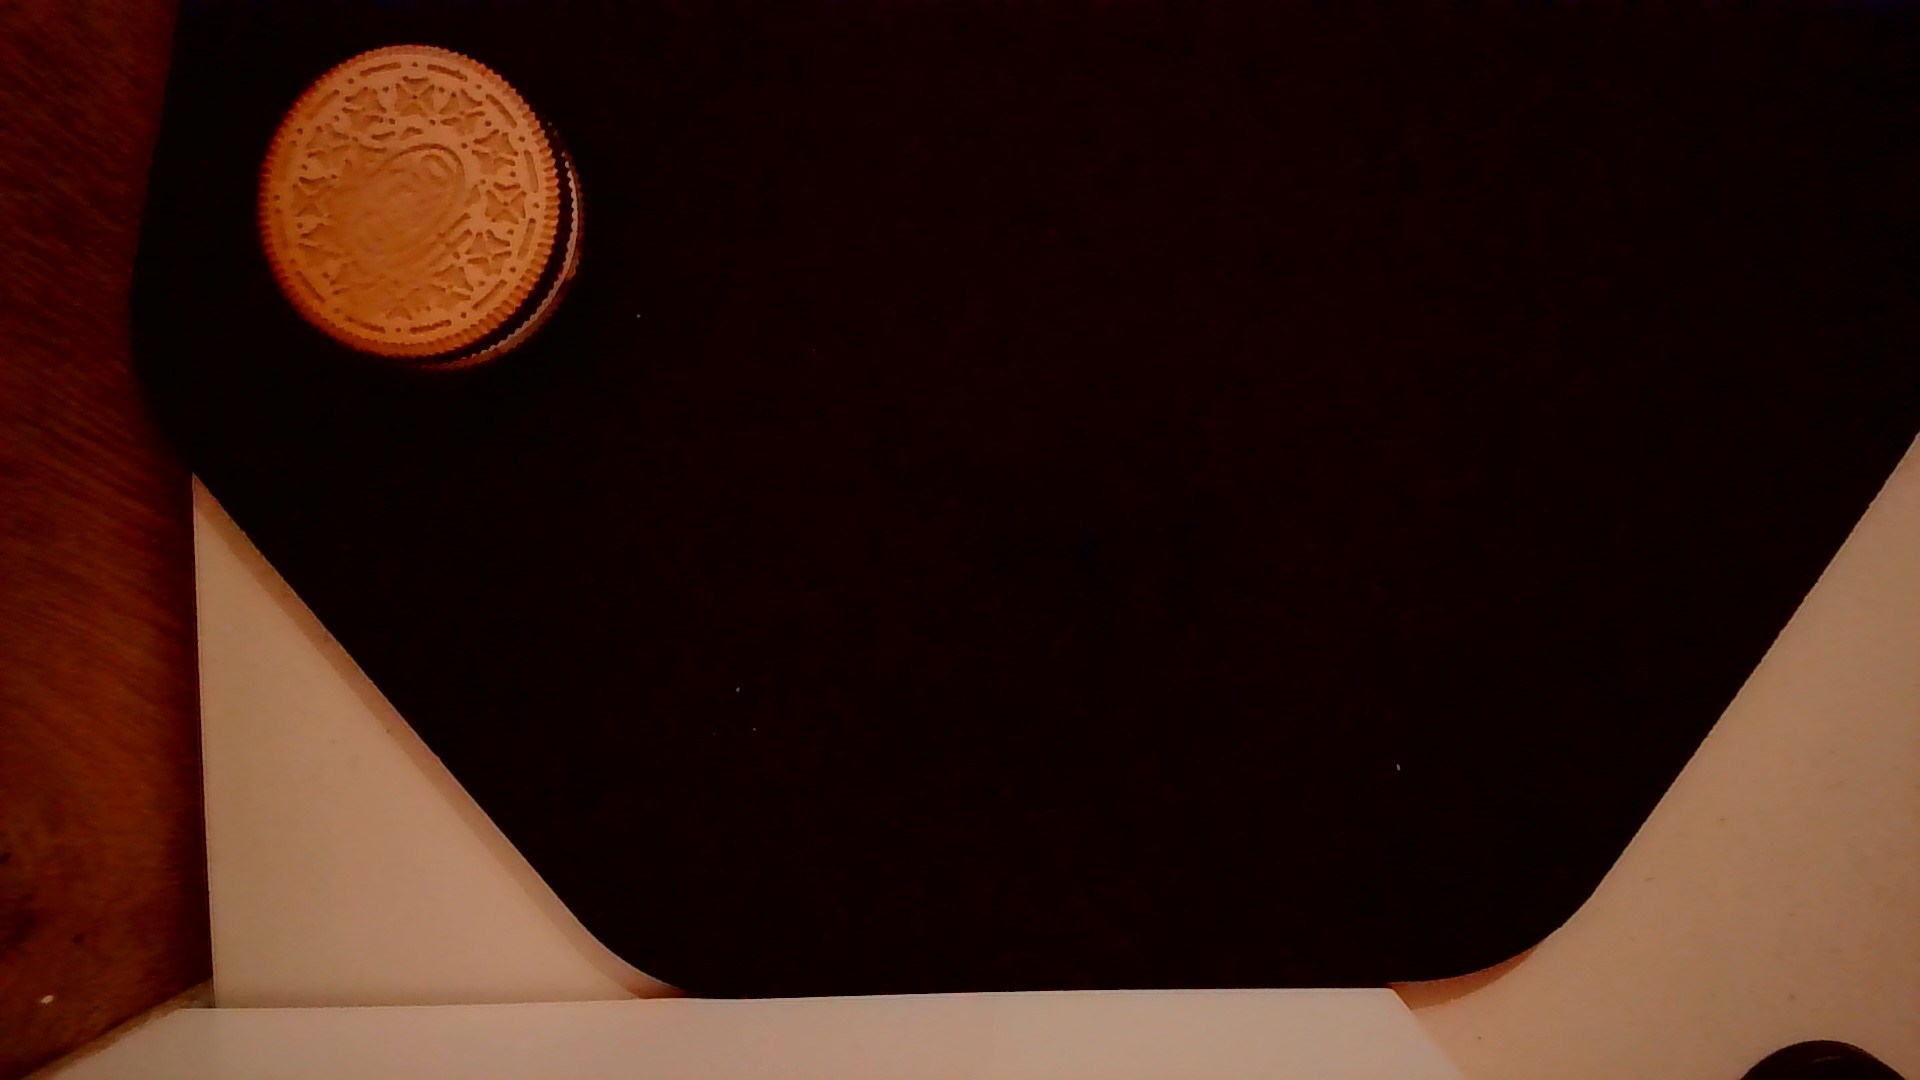Effacé: (323, 167, 442, 315)
Oréo: (252, 32, 591, 382)
